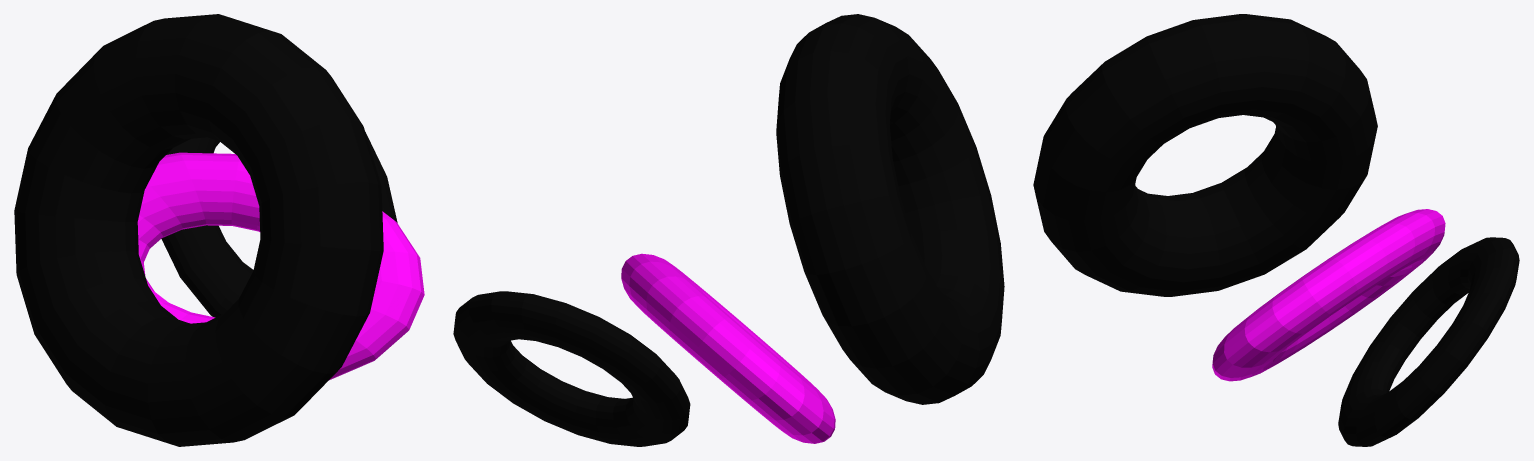
File: effect_constant_emission_texture.dae
The picture shows the model from 3 angles, left to right: view 1: azimuth 30°, elevation 25°; view 2: azimuth 150°, elevation 25°; view 3: azimuth 270°, elevation 25°; orthographic projection. The views are drawn at different scales.
Visible parts, largest first — view 1: pTorus3, pTorus1, pTorus2; view 2: pTorus3, pTorus2, pTorus1; view 3: pTorus3, pTorus2, pTorus1.
Part boxes in pixels (x1,y1,x2,y2): pTorus3: [14, 14, 383, 446]; pTorus1: [137, 152, 424, 380]; pTorus2: [161, 132, 397, 317]; pTorus3: [776, 14, 1004, 404]; pTorus2: [453, 291, 690, 446]; pTorus1: [621, 253, 835, 443]; pTorus3: [1033, 14, 1377, 296]; pTorus2: [1338, 237, 1519, 446]; pTorus1: [1212, 209, 1445, 381].
Bounding box in the file's own units: 308 × 283 × 357.
